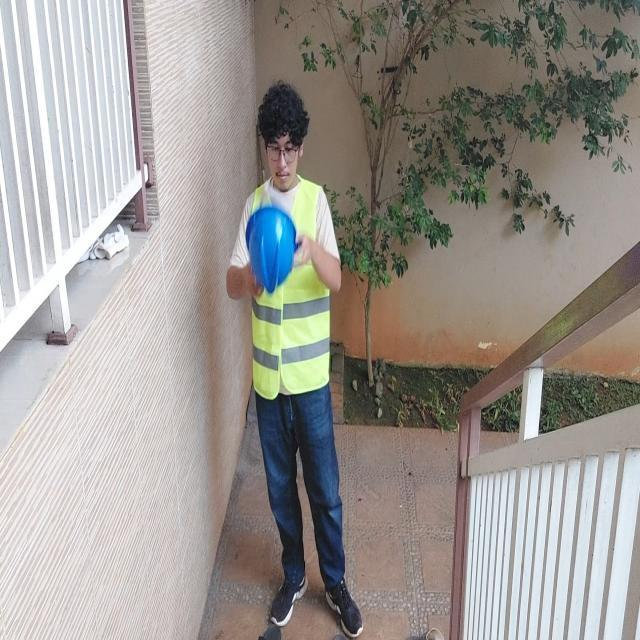helmet: (241, 208, 301, 299)
safety_vest: (238, 169, 338, 402)
